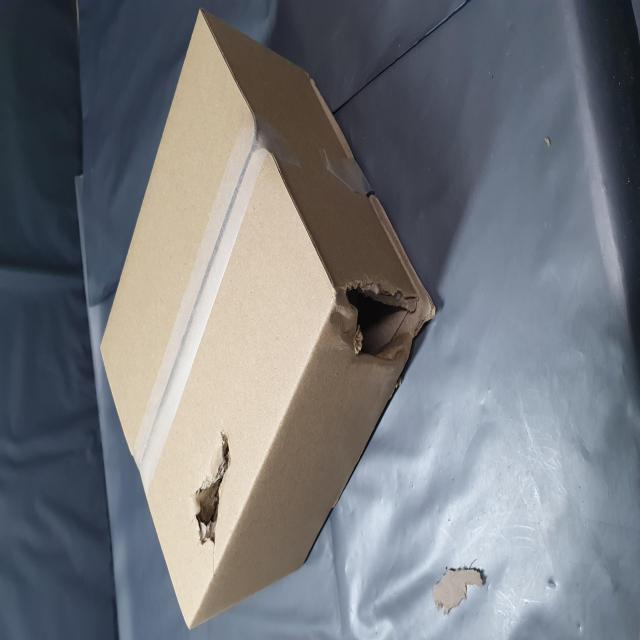damaged: (47, 338, 121, 424), (146, 578, 212, 640)
